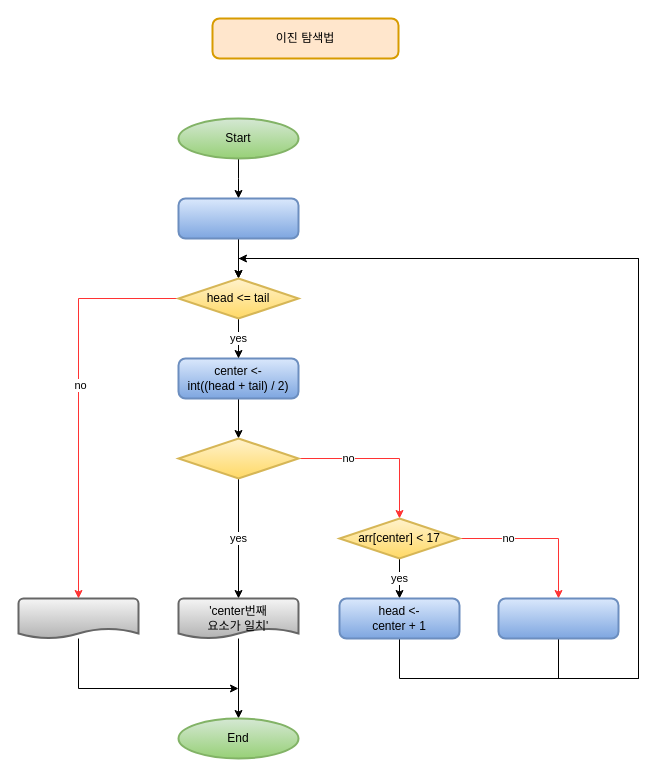
This 664x776 diagram has some shape labels left out. Here are the shapes that lost their labels. From the top down, the centre of each, then its label:
(238,218): head <- 0 tail <- 5
(238,458): arr[center] = 17
(78,618): '찾지 못했습니다'
(558,618): tail <- center - 1
